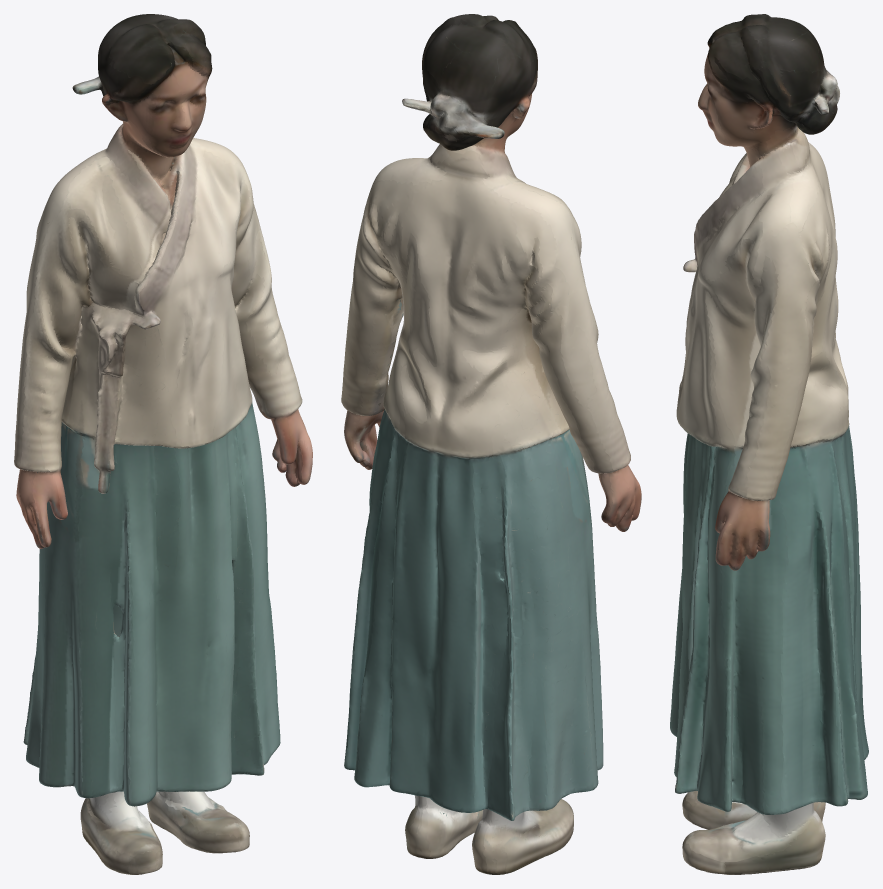
3 renders of one model, left to right at view 1: azimuth 30°, elevation 25°; view 2: azimuth 150°, elevation 25°; view 3: azimuth 270°, elevation 25°, orthographic.
Visible parts, largest first — view 1: geometry_0; view 2: geometry_0; view 3: geometry_0.
Boxes of the visible parts, x1,y1,x2,y2 form: geometry_0: (14, 14, 312, 874); geometry_0: (341, 14, 641, 874); geometry_0: (670, 14, 868, 874).
Bounding box in the file's own units: 0.5948 × 1.65 × 0.3618.
Materials: 1 (1 with a texture image).
